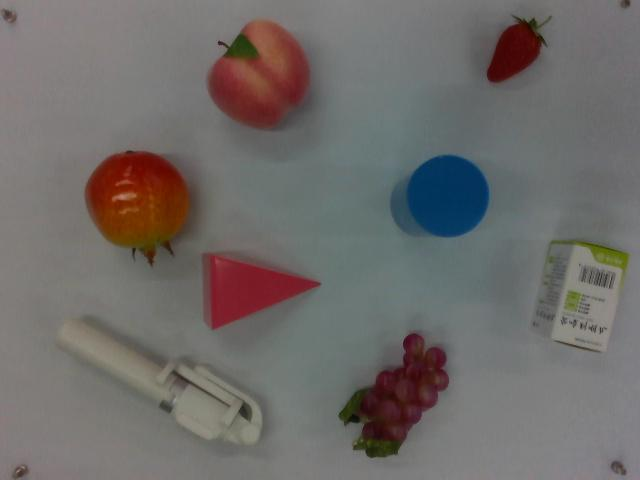carton: (528, 237, 631, 352)
cylinder: (388, 151, 492, 243)
grape: (338, 334, 452, 460)
peach: (205, 15, 314, 131)
pomegranate: (81, 147, 193, 267)
pyramid: (202, 248, 323, 333)
selfiestick: (56, 313, 266, 449)
strawberry: (484, 13, 556, 91)
